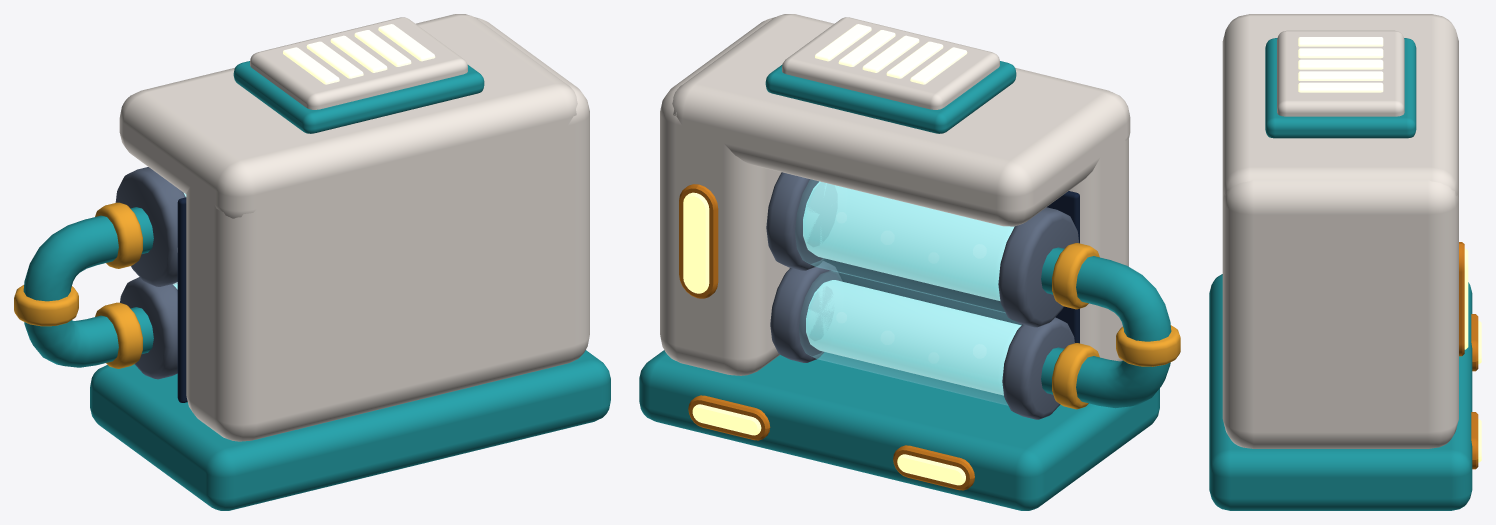
File: reciclador_agua.glb
3 renders of one model, left to right at view 1: azimuth 30°, elevation 25°; view 2: azimuth 150°, elevation 25°; view 3: azimuth 270°, elevation 25°, orthographic.
Visible parts, largest first — view 1: Malla_hueso, Malla_turquesa, Malla_acero_osc3, Malla_ambar_mate, Malla_ambar_suave, Fondo; view 2: Malla_hueso, Malla_turquesa, Malla_vidrio, Malla_acero_osc3, Agua, Agua2, Malla_ambar_mate, Fondo, Malla_ambar_suave, Malla_naranja_marco, Luz, Marco (+2 smaller); view 3: Malla_hueso, Malla_turquesa, Malla_ambar_suave, Malla_naranja_marco, Marco, Luz.
Part boxes in pixels (left/top/right/bottom): Malla_hueso: left=119, top=14, right=589, bottom=441; Malla_turquesa: left=23, top=61, right=610, bottom=510; Malla_acero_osc3: left=115, top=167, right=185, bottom=379; Malla_ambar_mate: left=14, top=202, right=142, bottom=368; Malla_ambar_suave: left=283, top=24, right=435, bottom=84; Fondo: left=177, top=197, right=187, bottom=402; Malla_hueso: left=660, top=14, right=1130, bottom=375; Malla_turquesa: left=639, top=61, right=1171, bottom=510; Malla_vidrio: left=795, top=179, right=1021, bottom=405; Malla_acero_osc3: left=766, top=172, right=1079, bottom=419; Agua: left=803, top=181, right=1014, bottom=300; Agua2: left=806, top=280, right=1021, bottom=395; Malla_ambar_mate: left=1052, top=243, right=1180, bottom=409; Fondo: left=823, top=191, right=1079, bottom=343; Malla_ambar_suave: left=815, top=24, right=967, bottom=84; Malla_naranja_marco: left=688, top=395, right=974, bottom=490; Luz: left=683, top=192, right=709, bottom=293; Marco: left=679, top=184, right=718, bottom=298; Malla_hueso: left=1222, top=14, right=1458, bottom=448; Malla_turquesa: left=1209, top=38, right=1472, bottom=510; Malla_ambar_suave: left=1298, top=37, right=1383, bottom=92; Malla_naranja_marco: left=1471, top=314, right=1478, bottom=469; Marco: left=1459, top=242, right=1464, bottom=356; Luz: left=1464, top=248, right=1468, bottom=349.
Size of the model in its own units: 2.96 by 2.07 by 1.41.
